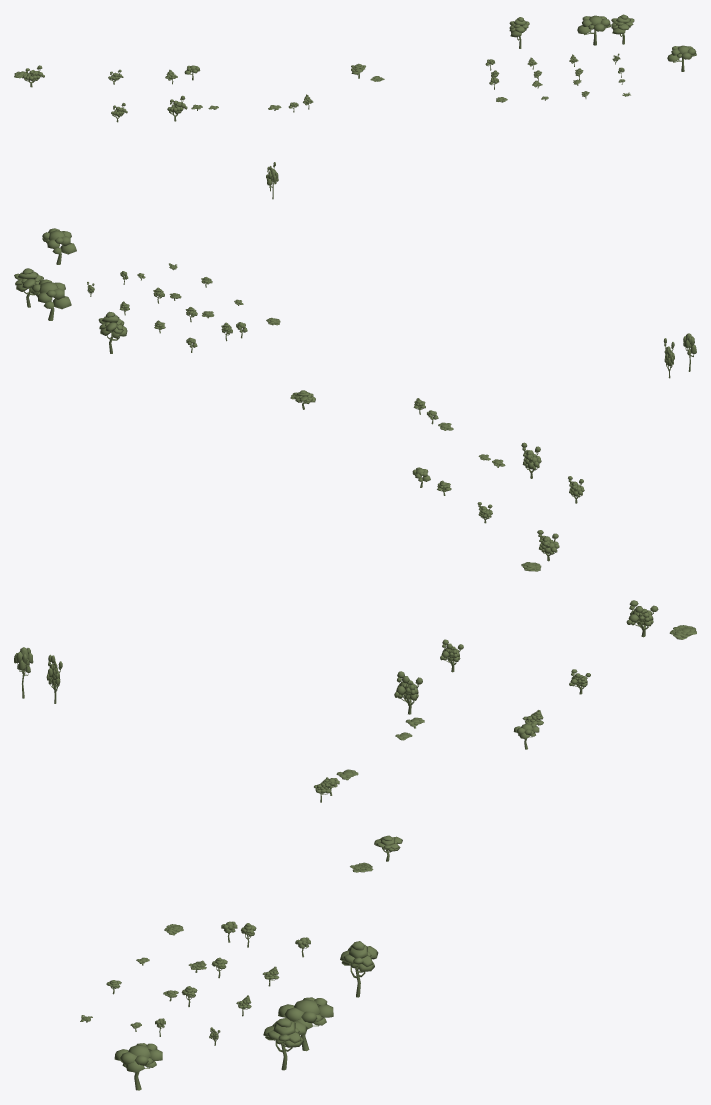
File: trees.glb
3 views of the same model, one above another, from view 1: azimuth 30°, elevation 25°; view 2: azimuth 150°, elevation 25°; view 3: azimuth 270°, elevation 25° (orthographic). The views are drawn at different scales.
Visible parts, largest first — view 1: vegetation; view 2: vegetation; view 3: vegetation.
Part boxes in pixels (left/top/right/bottom): vegetation: left=14, top=14, right=696, bottom=199; vegetation: left=14, top=228, right=696, bottom=571; vegetation: left=14, top=600, right=696, bottom=1090.
Bounding box in the file's own units: 215 × 13.03 × 135.
